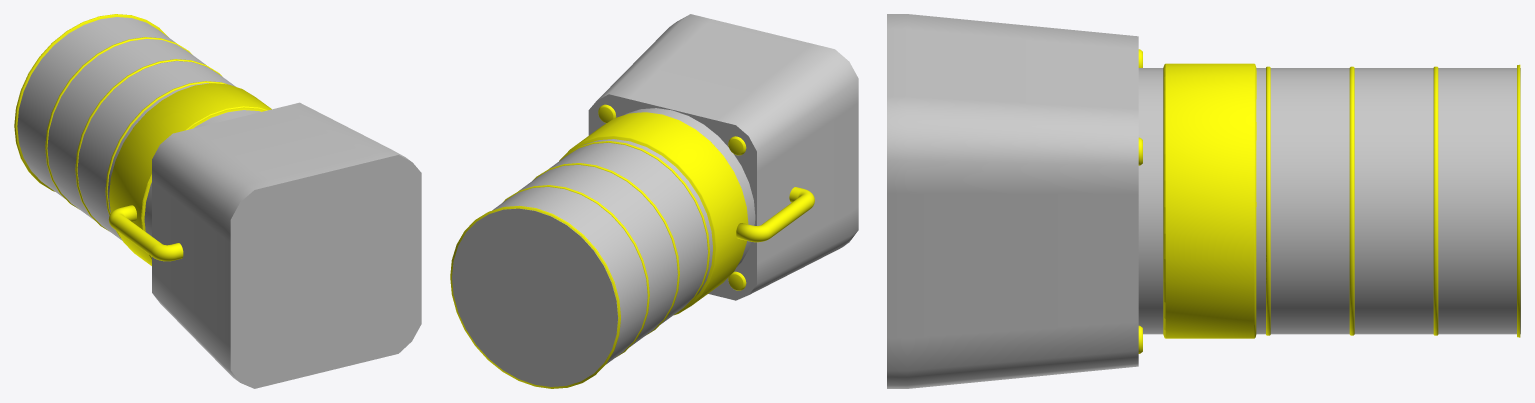
Rendered from sm_hana_bas_water_tank.glb.
3 renders of one model, left to right at view 1: azimuth 30°, elevation 25°; view 2: azimuth 150°, elevation 25°; view 3: azimuth 270°, elevation 25°, orthographic. The views are drawn at different scales.
Parts seen in each view (by area): view 1: sm_color_common, sm_hana_bas_water_tank; view 2: sm_color_common, sm_hana_bas_water_tank; view 3: sm_color_common, sm_hana_bas_water_tank.
Part boxes in pixels (x1,y1,x2,y2): sm_color_common: [17, 17, 421, 388]; sm_hana_bas_water_tank: [14, 14, 271, 265]; sm_color_common: [452, 14, 858, 386]; sm_hana_bas_water_tank: [450, 104, 814, 388]; sm_color_common: [887, 14, 1520, 388]; sm_hana_bas_water_tank: [1138, 49, 1520, 353].
Size of the model in its own units: 2.61 by 2.39 by 4.95.
2 materials, 1 textured.
